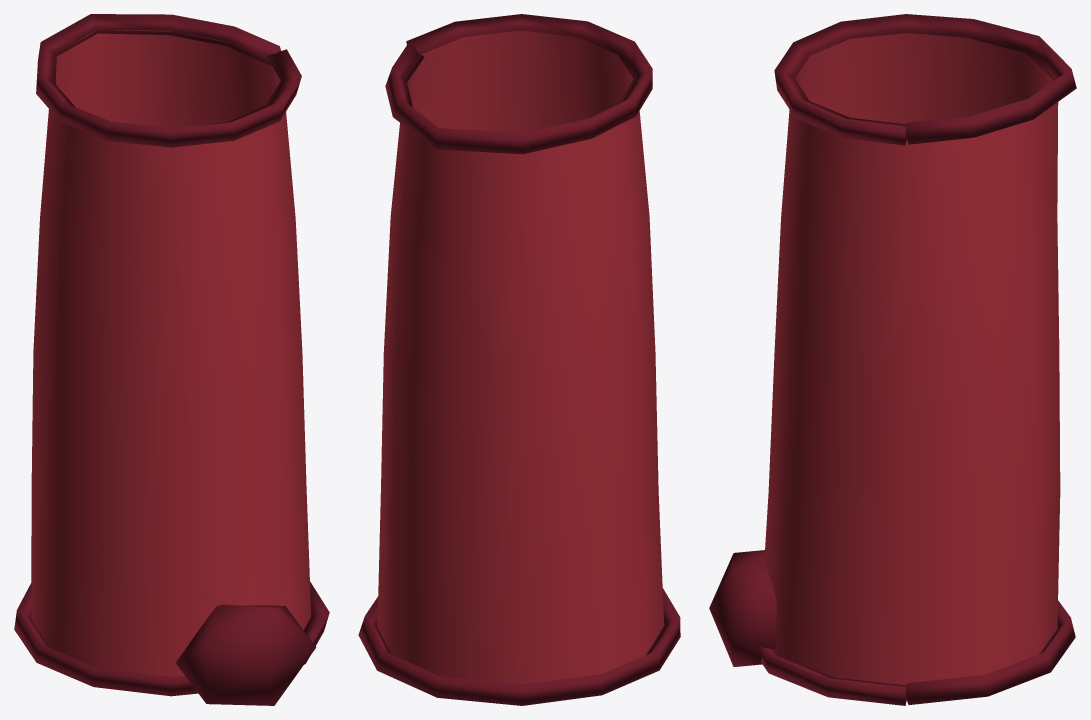
File: crimtane_armor_greave.R.glb
3 renders of one model, left to right at view 1: azimuth 30°, elevation 25°; view 2: azimuth 150°, elevation 25°; view 3: azimuth 270°, elevation 25°, orthographic. The views are drawn at different scales.
Visible parts, largest first — view 1: crimtane_armor_greave.R; view 2: crimtane_armor_greave.R; view 3: crimtane_armor_greave.R.
Boxes of the visible parts, <box> form: crimtane_armor_greave.R: <box>14,14,329,705</box>; crimtane_armor_greave.R: <box>358,14,680,705</box>; crimtane_armor_greave.R: <box>709,14,1076,705</box>.
Size of the model in its own units: 0.1998 by 0.4044 by 0.2286.
